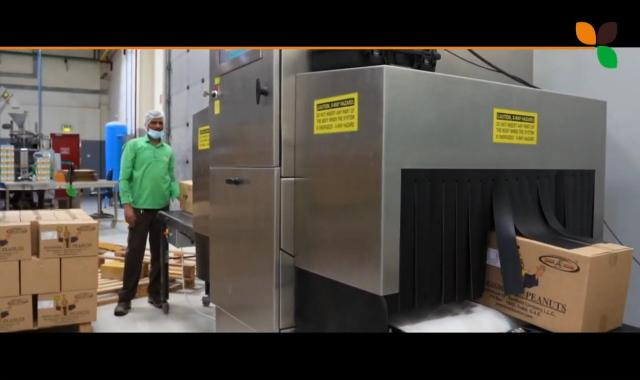hairnet: (144, 109, 170, 132)
